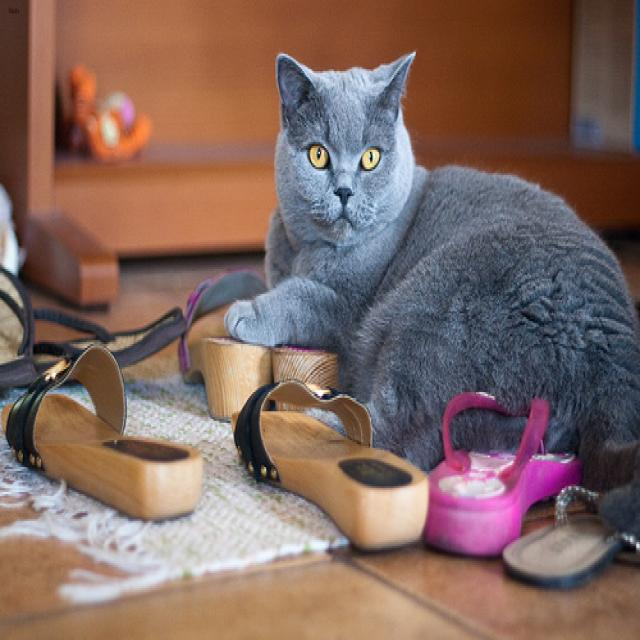cat: (272, 50, 413, 244)
